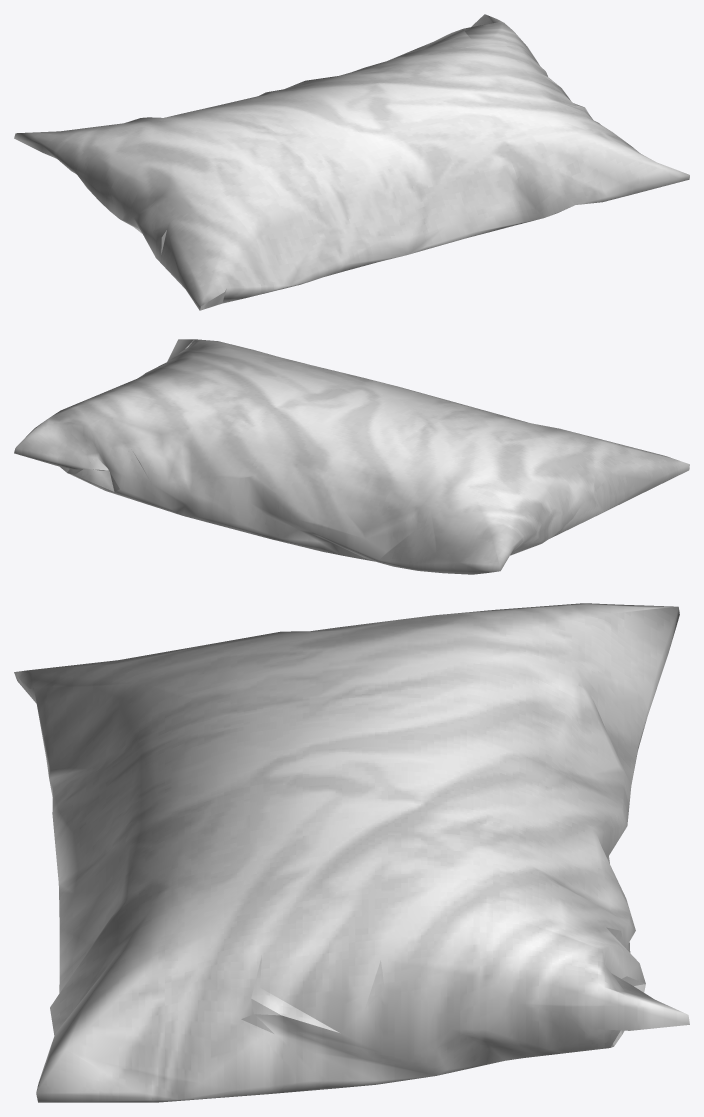
The model's file is Pillow.FBX.
3 views of the same model, one above another, from view 1: azimuth 30°, elevation 25°; view 2: azimuth 150°, elevation 25°; view 3: azimuth 270°, elevation 25° (orthographic). The views are drawn at different scales.
Visible parts, largest first — view 1: Pillow; view 2: Pillow; view 3: Pillow.
Boxes of the visible parts, x1=… form: Pillow: x1=14, y1=14, x2=689, y2=310; Pillow: x1=14, y1=339, x2=689, y2=574; Pillow: x1=14, y1=603, x2=689, y2=1102.
Bounding box in the file's own units: 59.58 × 9.94 × 39.32.
1 material, 1 textured.
